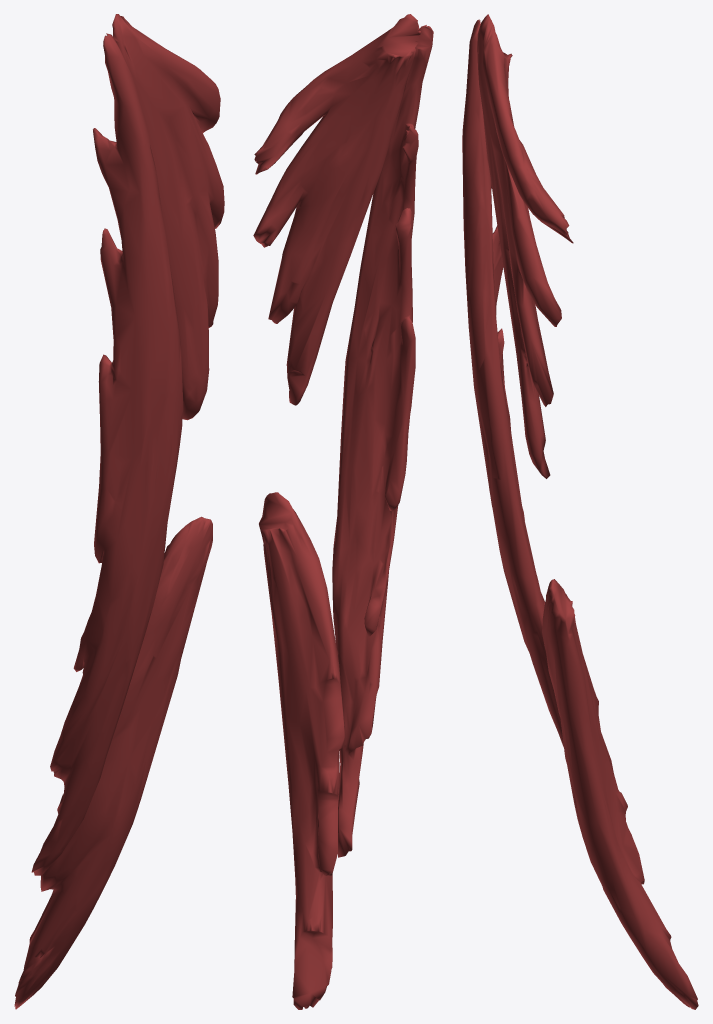
Rendered from longus-colli-muscle-l.glb.
The picture shows the model from 3 angles, left to right: view 1: azimuth 30°, elevation 25°; view 2: azimuth 150°, elevation 25°; view 3: azimuth 270°, elevation 25°; orthographic projection. The views are drawn at different scales.
Parts seen in each view (by area): view 1: Longus colli muscle.l; view 2: Longus colli muscle.l; view 3: Longus colli muscle.l.
Boxes of the visible parts, <box> form: Longus colli muscle.l: <box>14,14,224,1009</box>; Longus colli muscle.l: <box>253,14,433,1009</box>; Longus colli muscle.l: <box>462,14,698,1009</box>.
Size of the model in its own units: 0.0248 by 0.1574 by 0.0341.
